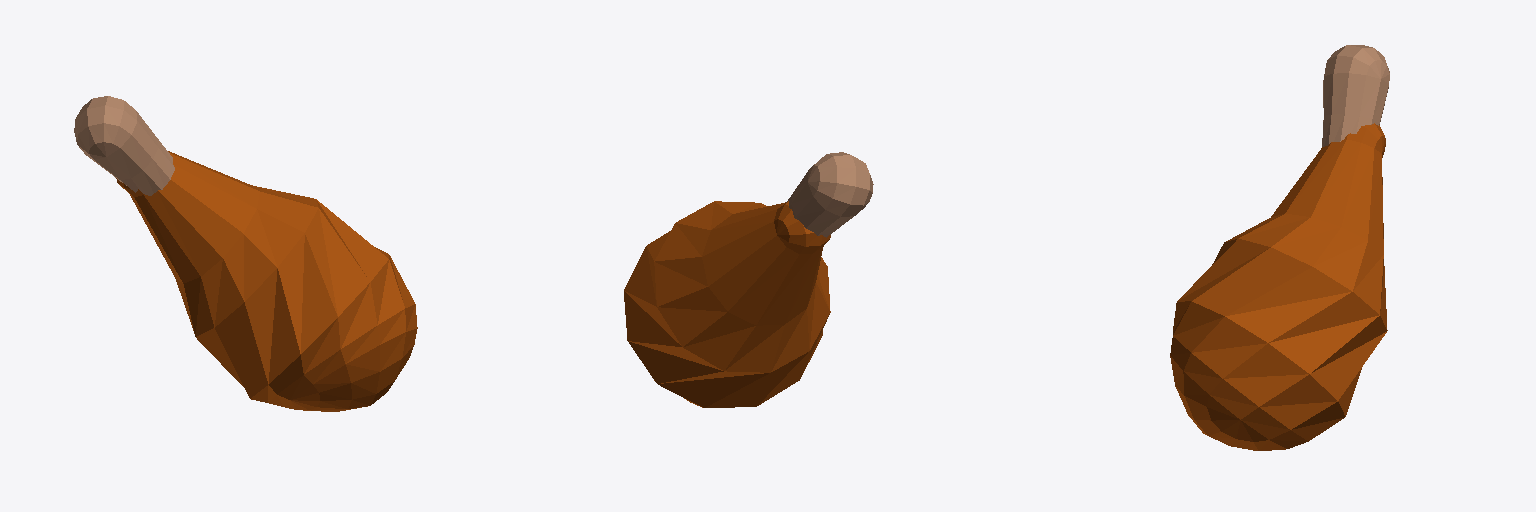
Rendered from chicken_leg_02.obj.
3 renders of one model, left to right at view 1: azimuth 30°, elevation 25°; view 2: azimuth 150°, elevation 25°; view 3: azimuth 270°, elevation 25°, orthographic.
Visible parts, largest first — view 1: i0000.72279, i0001.50346; view 2: i0000.72279, i0001.50346; view 3: i0000.72279, i0001.50346.
Part boxes in pixels (x1,y1,x2,y2): i0000.72279: (116, 151, 417, 411); i0001.50346: (74, 96, 174, 195); i0000.72279: (624, 201, 830, 407); i0001.50346: (786, 152, 873, 237); i0000.72279: (1170, 123, 1387, 450); i0001.50346: (1322, 45, 1389, 146).
Size of the model in its own units: 0.3789 by 0.4041 by 0.258.